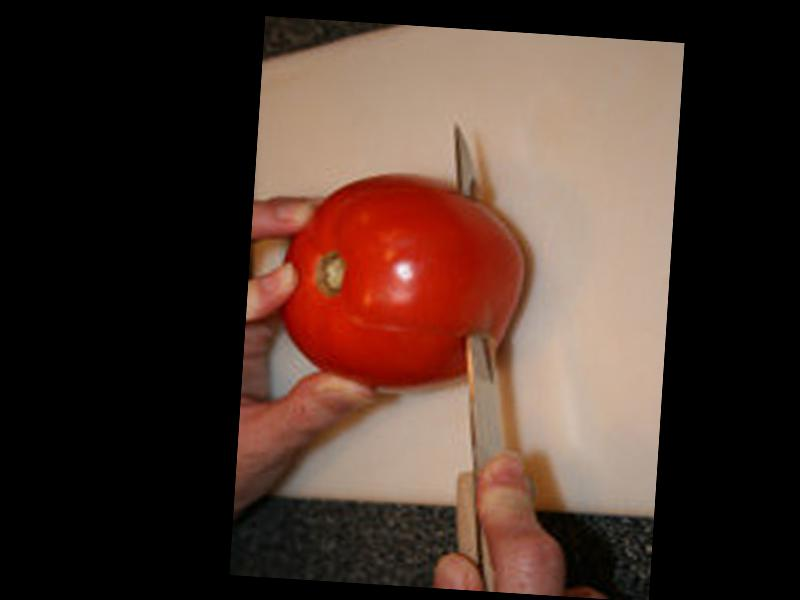Tomato: (274, 165, 529, 395)
